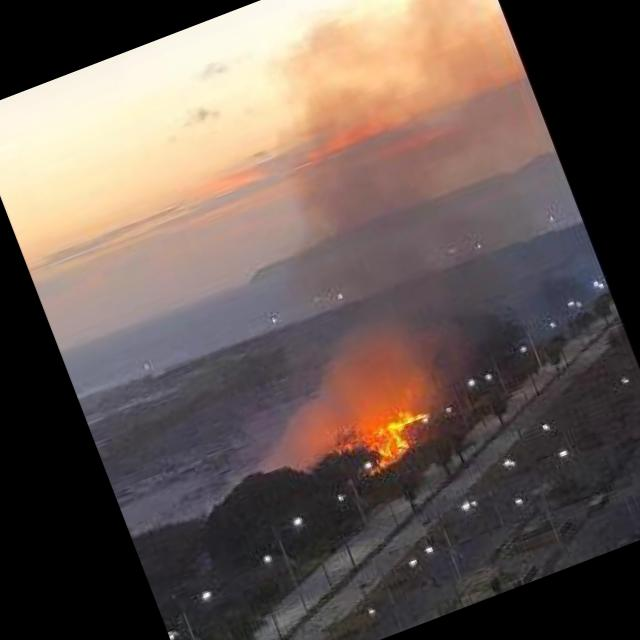fire: (356, 406, 441, 473)
smoke: (204, 0, 605, 435)
